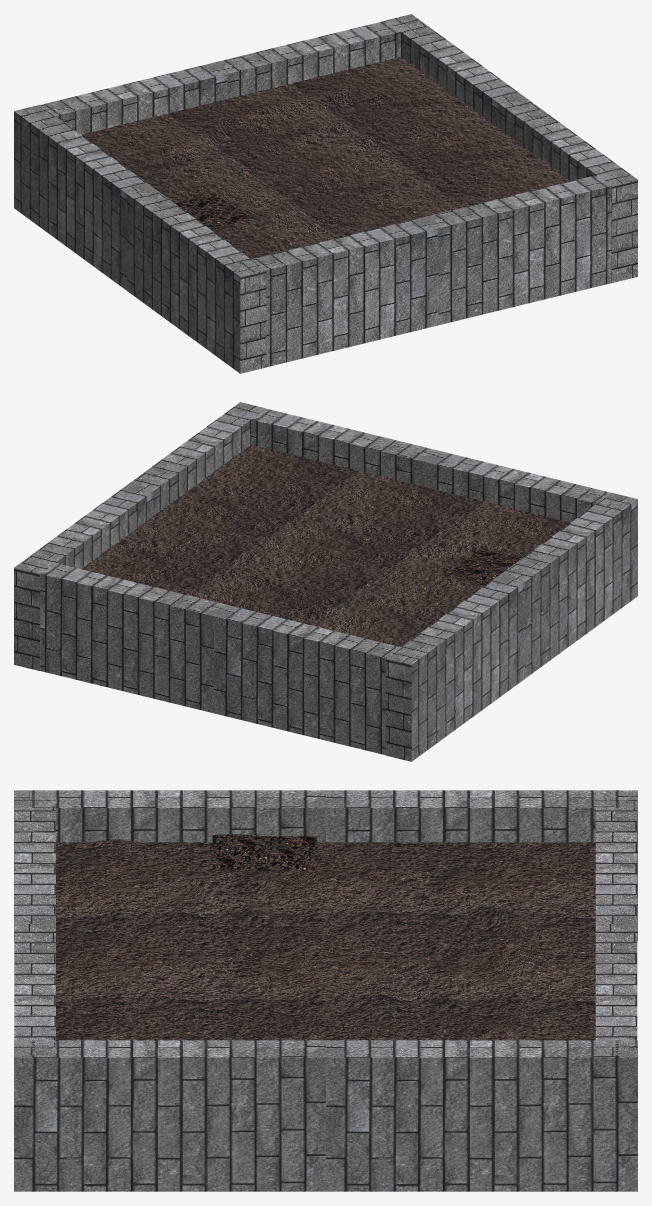
File: Vermi compost.fbx
The picture shows the model from 3 angles, top to bottom: view 1: azimuth 30°, elevation 25°; view 2: azimuth 150°, elevation 25°; view 3: azimuth 270°, elevation 25°; orthographic projection. The views are drawn at different scales.
Parts seen in each view (by area): view 1: Vermi_compost, Brick_wall3, Brick_wall, Brick_wall2, Brick_wall1, Earthworm; view 2: Vermi_compost, Brick_wall2, Brick_wall, Brick_wall3, Brick_wall1, Earthworm; view 3: Vermi_compost, Brick_wall1, Brick_wall, Brick_wall2, Brick_wall3, Earthworm.
Part boxes in pixels (x1=…): Vermi_compost: x1=81, y1=57, x2=570, y2=259; Brick_wall3: x1=227, y1=169, x2=633, y2=367; Brick_wall: x1=14, y1=105, x2=266, y2=373; Brick_wall2: x1=18, y1=15, x2=422, y2=134; Brick_wall1: x1=386, y1=14, x2=637, y2=282; Earthworm: x1=175, y1=193, x2=251, y2=229; Vermi_compost: x1=81, y1=444, x2=570, y2=646; Brick_wall2: x1=30, y1=558, x2=423, y2=754; Brick_wall: x1=385, y1=493, x2=637, y2=761; Brick_wall3: x1=229, y1=403, x2=634, y2=522; Brick_wall1: x1=14, y1=402, x2=265, y2=670; Earthworm: x1=444, y1=548, x2=522, y2=585; Vermi_compost: x1=56, y1=839, x2=595, y2=1040; Brick_wall1: x1=14, y1=1040, x2=637, y2=1191; Brick_wall: x1=14, y1=790, x2=637, y2=941; Brick_wall2: x1=595, y1=792, x2=637, y2=1055; Brick_wall3: x1=14, y1=791, x2=55, y2=1055; Earthworm: x1=212, y1=834, x2=317, y2=870.
Size of the model in its own units: 7.69 by 1.79 by 7.58.
3 materials, 3 textured.
